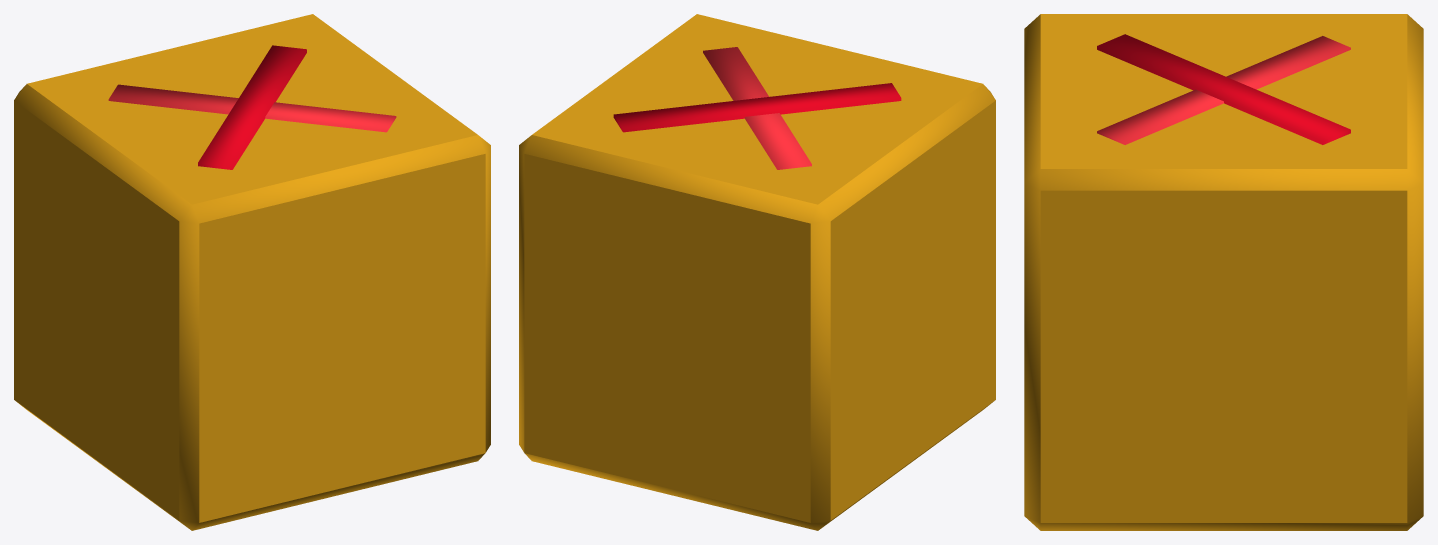
Rendered from Cube_Cancel.fbx.
3 renders of one model, left to right at view 1: azimuth 30°, elevation 25°; view 2: azimuth 150°, elevation 25°; view 3: azimuth 270°, elevation 25°, orthographic. The views are drawn at different scales.
Visible parts, largest first — view 1: Cube.001, Cube.002, Cube.003; view 2: Cube.001, Cube.002, Cube.003; view 3: Cube.001, Cube.002, Cube.003.
Boxes of the visible parts, box(x1,y1,x2,y2) form: Cube.001: box(14, 14, 490, 530); Cube.002: box(198, 45, 306, 169); Cube.003: box(108, 84, 396, 132); Cube.001: box(519, 14, 995, 530); Cube.002: box(613, 83, 901, 132); Cube.003: box(703, 47, 811, 169); Cube.001: box(1024, 14, 1423, 530); Cube.002: box(1097, 34, 1350, 144); Cube.003: box(1097, 36, 1350, 144).
Size of the model in its own units: 100 by 101 by 100.
